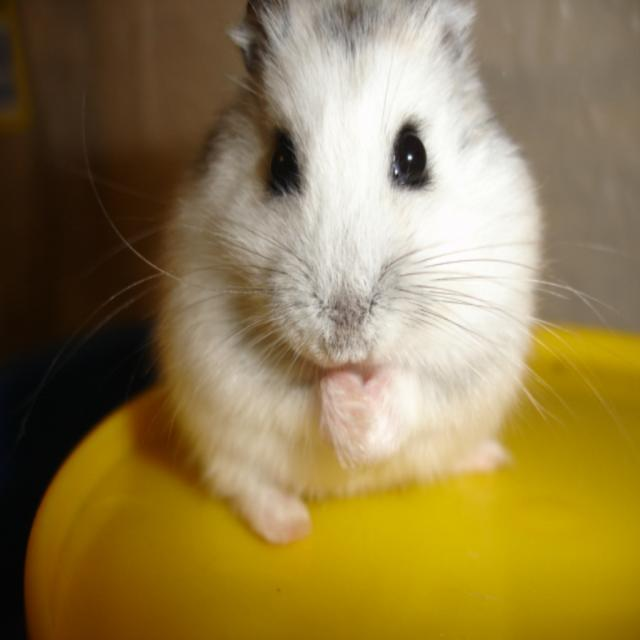rat: (72, 0, 639, 536)
